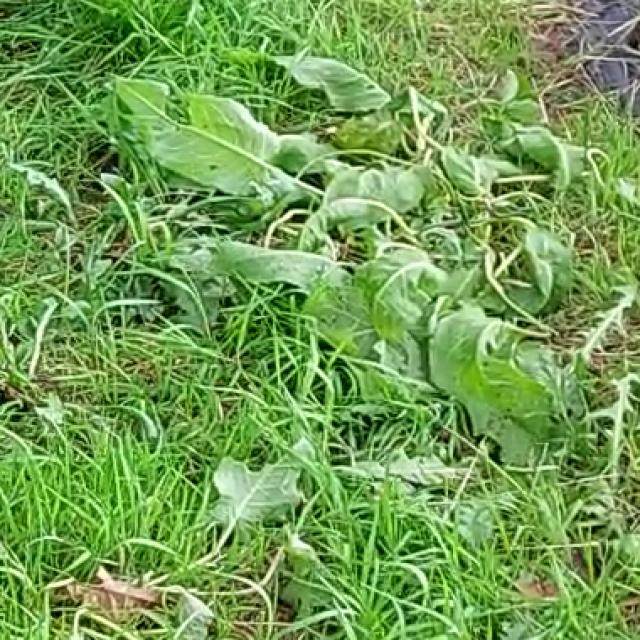organic waste: (155, 51, 635, 443)
